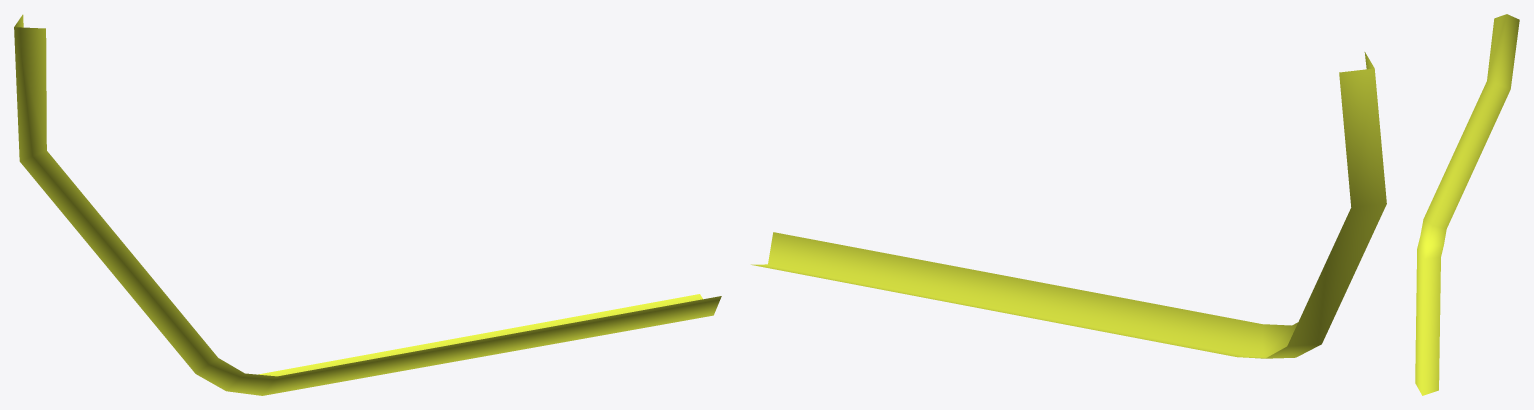
The model's file is b_polySurface628_b_BMW_i8Elite_2017CalliperGloss_Material1_0.glb.
3 views of the same model, side by side, from view 1: azimuth 30°, elevation 25°; view 2: azimuth 150°, elevation 25°; view 3: azimuth 270°, elevation 25° (orthographic). The views are drawn at different scales.
Parts seen in each view (by area): view 1: b:polySurface628_b:BMW_i8Elite_2017CalliperGloss_Material1_0; view 2: b:polySurface628_b:BMW_i8Elite_2017CalliperGloss_Material1_0; view 3: b:polySurface628_b:BMW_i8Elite_2017CalliperGloss_Material1_0.
Boxes of the visible parts, x1=… form: b:polySurface628_b:BMW_i8Elite_2017CalliperGloss_Material1_0: x1=14, y1=14, x2=721, y2=395; b:polySurface628_b:BMW_i8Elite_2017CalliperGloss_Material1_0: x1=751, y1=52, x2=1386, y2=358; b:polySurface628_b:BMW_i8Elite_2017CalliperGloss_Material1_0: x1=1415, y1=14, x2=1519, y2=395.
Size of the model in its own units: 0.0782 by 0.046 by 0.0203.
